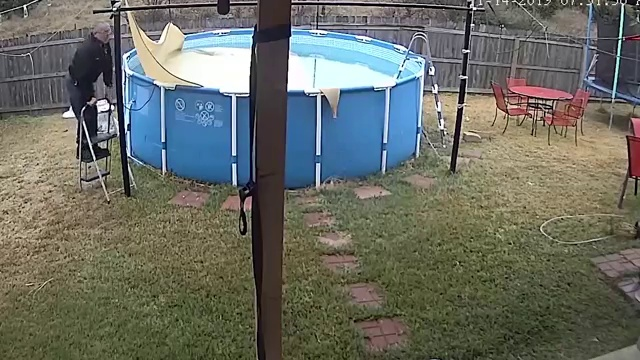face: (95, 21, 111, 42)
